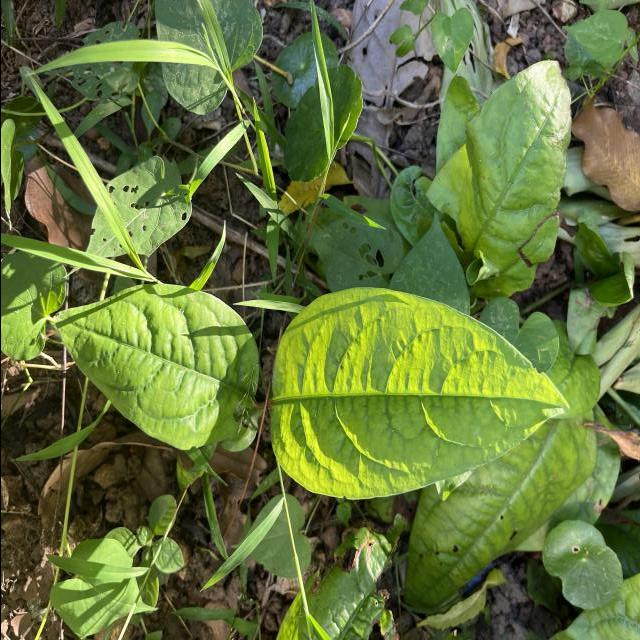Plumbago indica: (271, 288, 568, 500), (45, 282, 264, 456), (426, 58, 572, 292)
